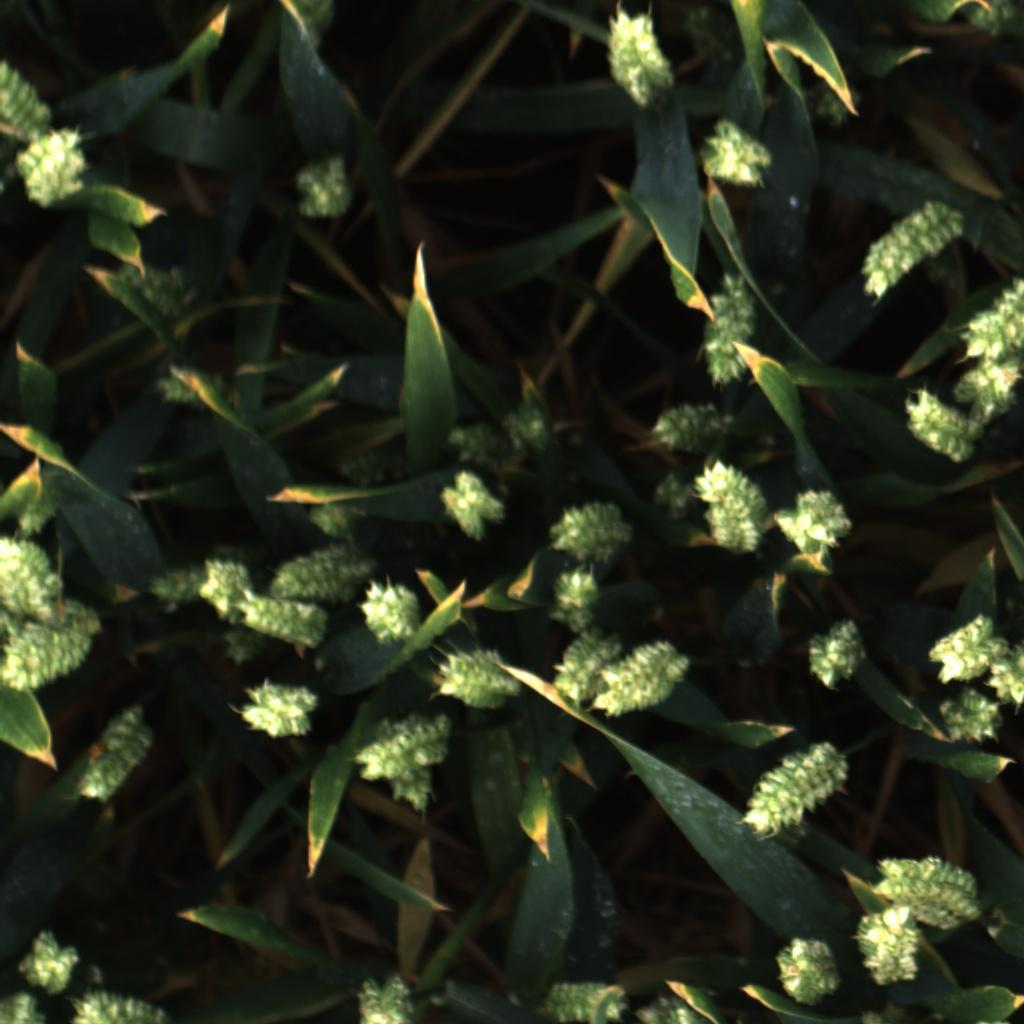0-0: (857, 196, 969, 304), (739, 739, 851, 845), (0, 593, 96, 696), (599, 1, 681, 114), (342, 712, 462, 789), (871, 846, 981, 926), (688, 456, 771, 559), (594, 634, 691, 721), (78, 697, 159, 798), (13, 116, 95, 212), (110, 247, 203, 330), (692, 114, 788, 192), (363, 714, 438, 813), (0, 40, 66, 147), (770, 481, 860, 558), (700, 276, 759, 389), (900, 382, 978, 467), (272, 537, 373, 600), (286, 145, 362, 227), (853, 903, 926, 986), (547, 497, 640, 562), (437, 640, 523, 709), (931, 613, 1013, 685), (685, 9, 767, 81), (962, 268, 1024, 362), (773, 928, 843, 1011), (236, 676, 322, 743), (432, 413, 515, 482), (2, 526, 62, 621), (552, 625, 622, 705), (805, 612, 873, 692), (128, 555, 203, 626), (438, 467, 506, 545), (151, 360, 248, 414), (242, 593, 330, 652), (931, 683, 1004, 752), (356, 581, 428, 650), (538, 970, 629, 1024), (14, 925, 83, 995), (647, 399, 738, 451), (952, 361, 1024, 424), (501, 394, 564, 465), (300, 487, 368, 549), (349, 967, 419, 1024), (802, 69, 871, 126), (629, 980, 717, 1024), (72, 987, 175, 1024), (335, 450, 423, 492), (549, 566, 601, 631), (196, 554, 250, 615), (649, 462, 706, 518), (993, 629, 1024, 707)
